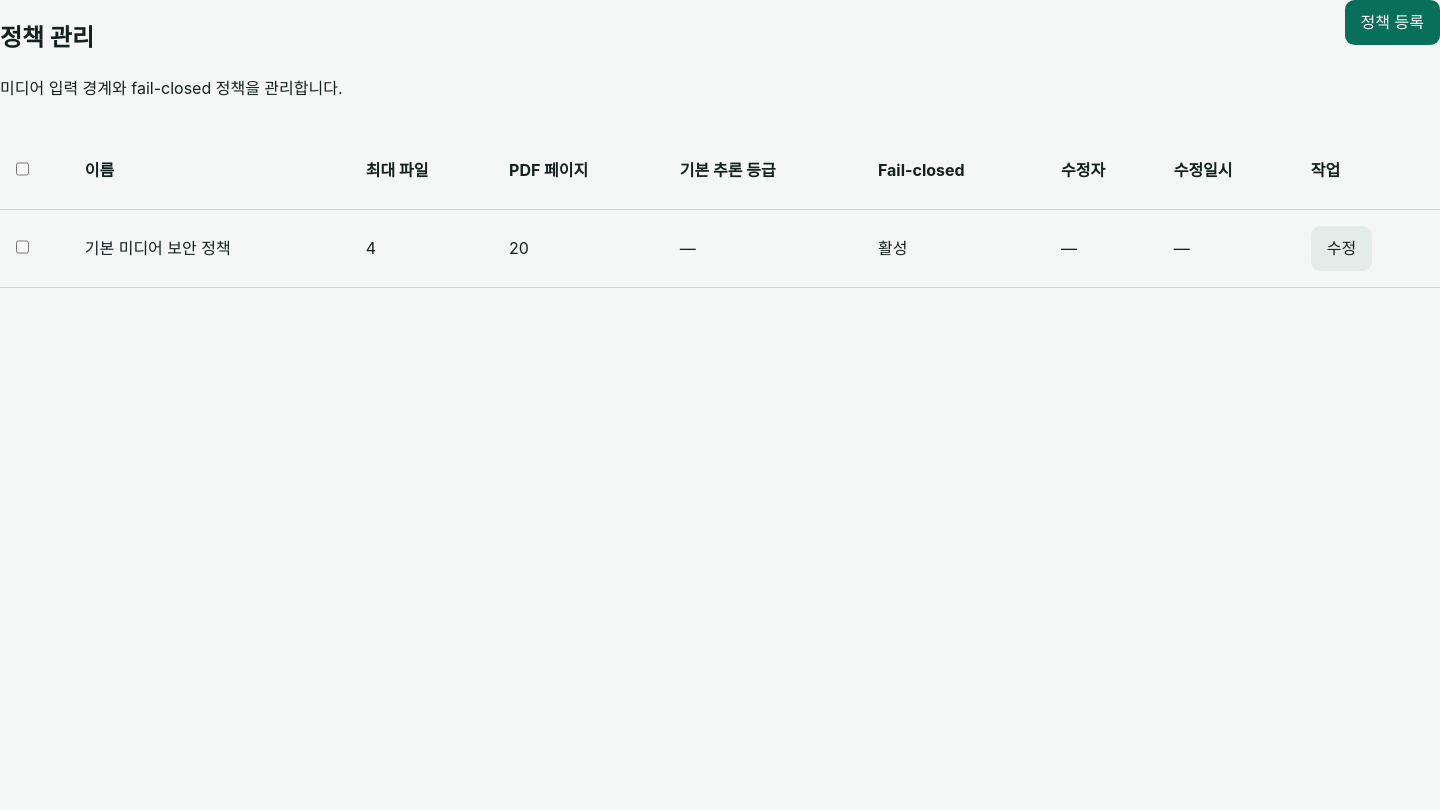
edits all eight policy controls from the standard dialog
Click the button "수정".
click(1341, 248)  # box [1311,226,1372,271]
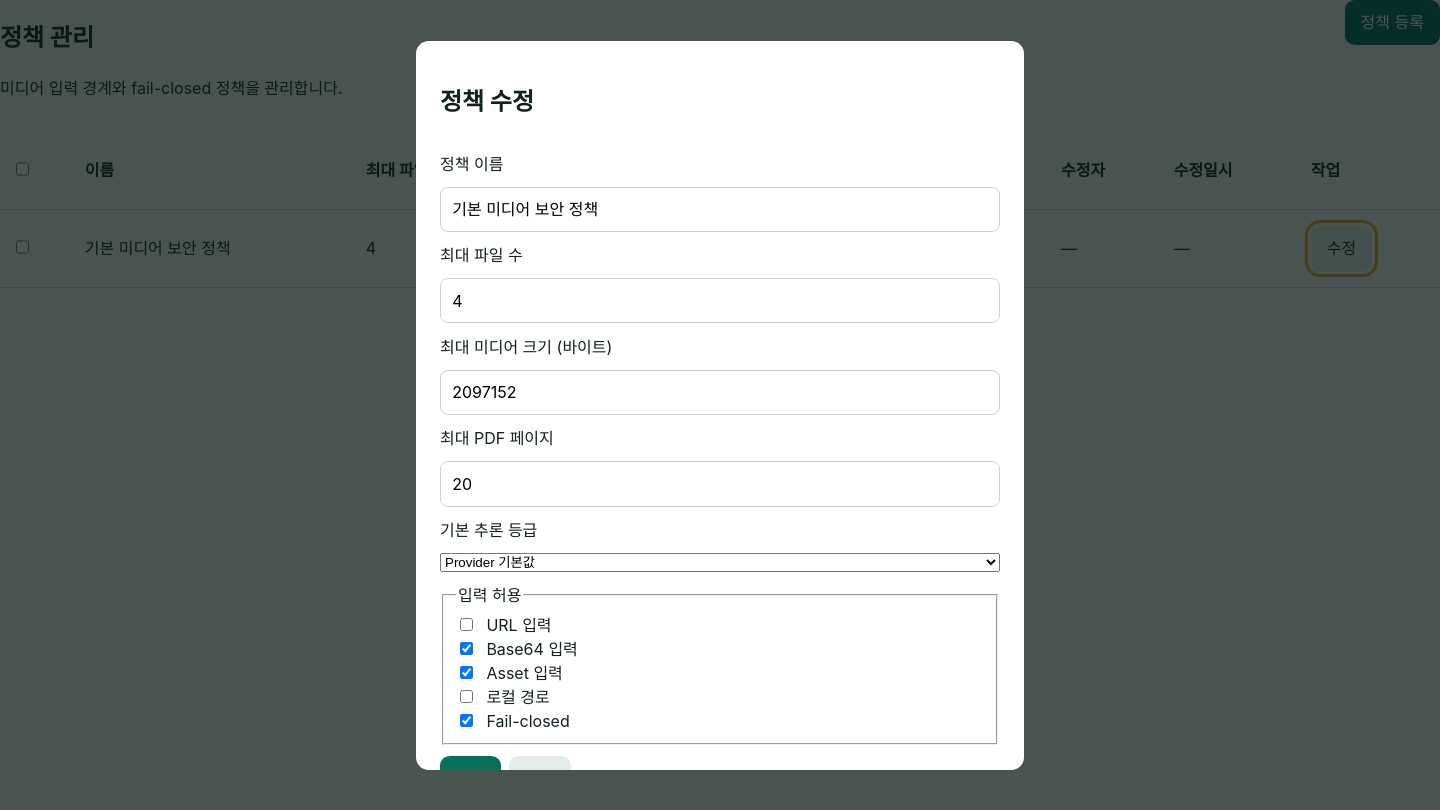
expect the number field labelled "최대 파일 수" holds "4": met, box [440,278,1000,324]
expect the number field labelled "최대 미디어 크기 (바이트)" holds "2097152": met, box [440,370,1000,415]
expect the number field labelled "최대 PDF 페이지" holds "20": met, box [440,461,1000,507]
